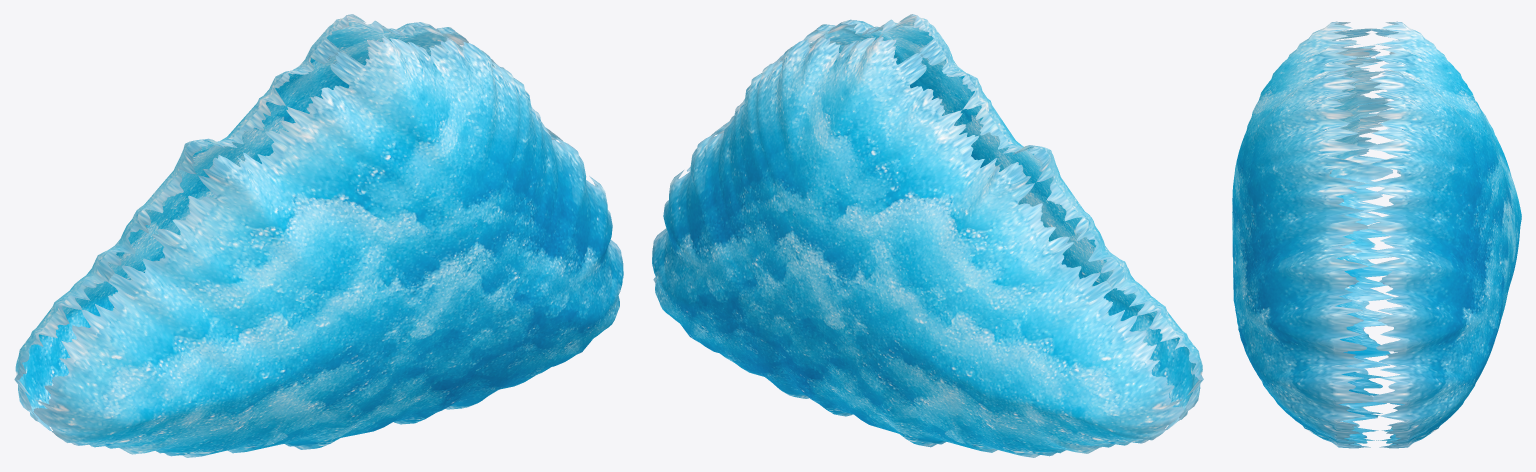
Rendered from mora-azul-tequila.glb.
3 views of the same model, side by side, from view 1: azimuth 30°, elevation 25°; view 2: azimuth 150°, elevation 25°; view 3: azimuth 270°, elevation 25° (orthographic). The views are drawn at different scales.
Parts seen in each view (by area): view 1: mora-azul-tequila; view 2: mora-azul-tequila; view 3: mora-azul-tequila.
Part boxes in pixels (<box>): mora-azul-tequila: <box>14,14,623,457</box>; mora-azul-tequila: <box>652,14,1203,457</box>; mora-azul-tequila: <box>1232,21,1521,448</box>.
Size of the model in its own units: 1.98 by 1.37 by 0.924.
1 material, 1 textured.
